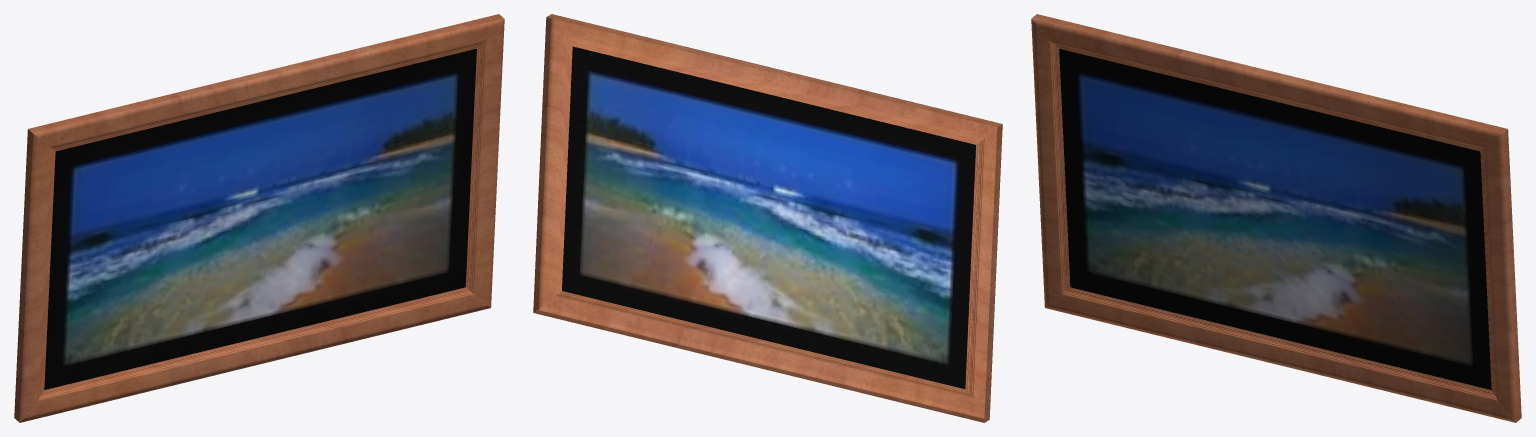
File: co-picture.glb
The picture shows the model from 3 angles, left to right: view 1: azimuth 30°, elevation 25°; view 2: azimuth 150°, elevation 25°; view 3: azimuth 330°, elevation 25°; orthographic projection. The views are drawn at different scales.
Parts seen in each view (by area): view 1: Picture_5, Picture_3, Picture_4, Picture_1, Picture_2; view 2: Picture_5, Picture_4, Picture_3, Picture_2, Picture_1; view 3: Picture_5, Picture_3, Picture_4, Picture_2, Picture_1.
Part boxes in pixels (box(x1,y1,x2,y2)): Picture_5: box(44, 49, 476, 389); Picture_3: box(28, 14, 504, 151); Picture_4: box(20, 287, 490, 422); Picture_1: box(14, 129, 55, 422); Picture_2: box(465, 19, 504, 307); Picture_5: box(562, 46, 975, 388); Picture_4: box(533, 291, 984, 422); Picture_3: box(546, 14, 1002, 144); Picture_2: box(533, 17, 572, 312); Picture_1: box(965, 124, 1002, 422); Picture_5: box(1059, 49, 1491, 389); Picture_3: box(1031, 14, 1507, 151); Picture_4: box(1045, 287, 1515, 422); Picture_2: box(1480, 129, 1521, 422); Picture_1: box(1031, 19, 1070, 307).
Bounding box in the file's own units: 1.34 × 0.8146 × 0.0949.
2 materials, 2 textured.
